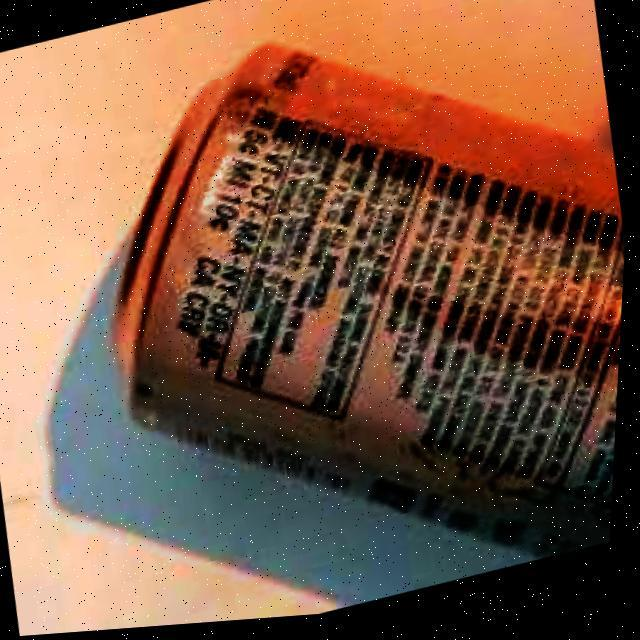Lata: (108, 37, 628, 563)
